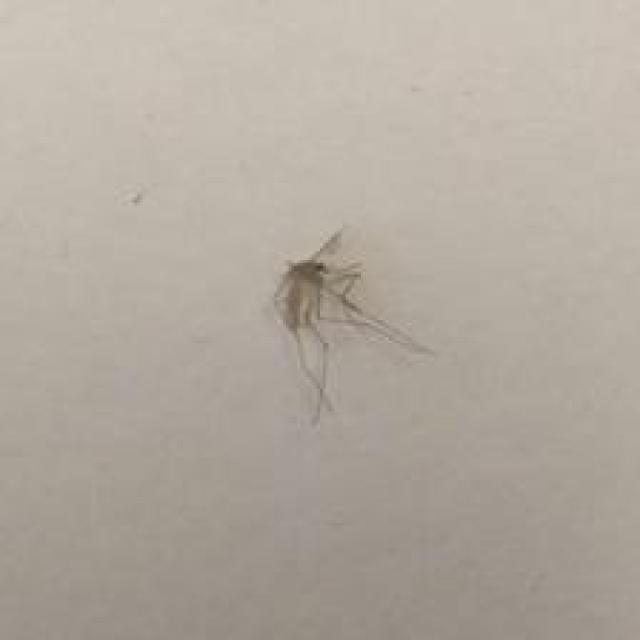Culex: (269, 223, 437, 426)
